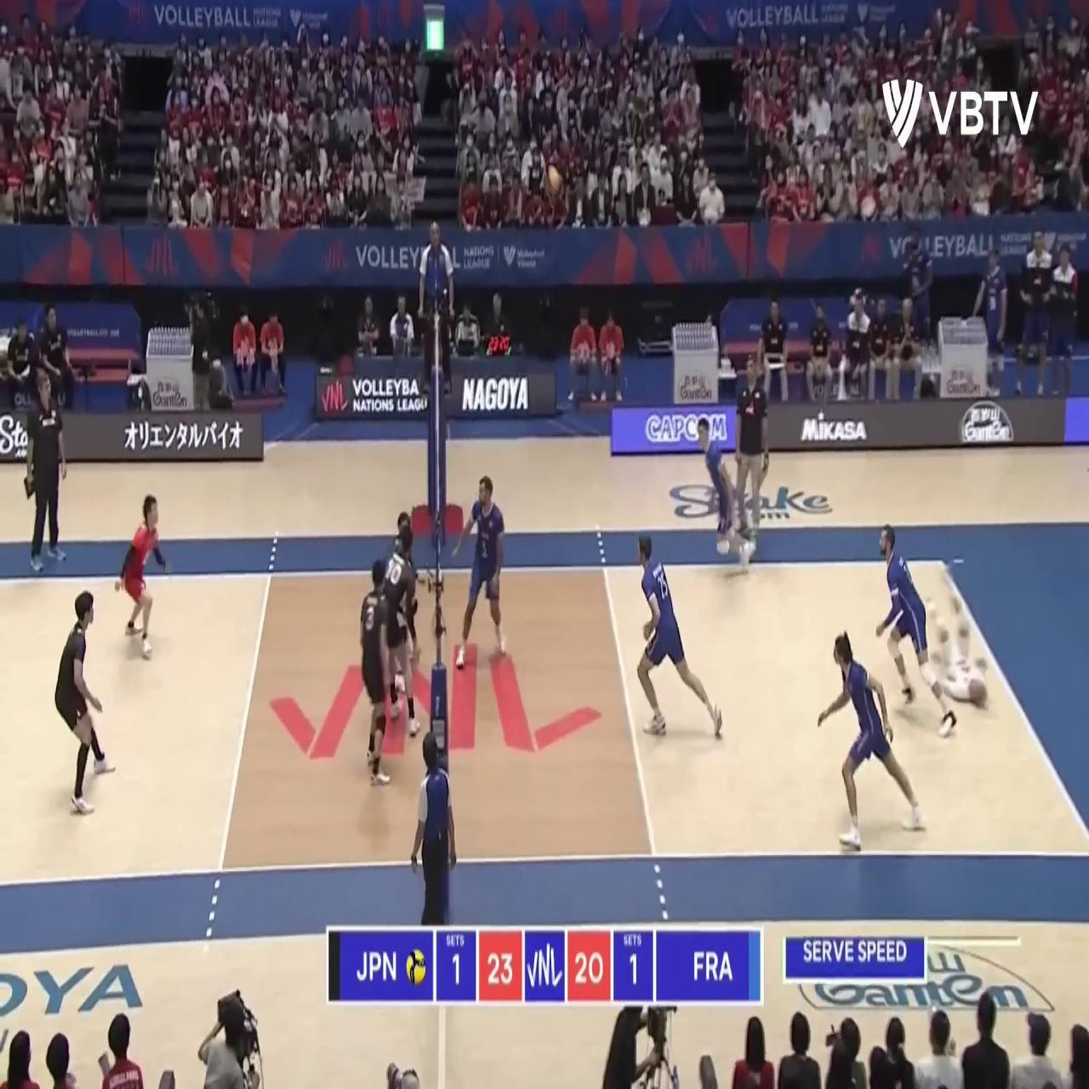ball: (542, 164, 561, 197)
